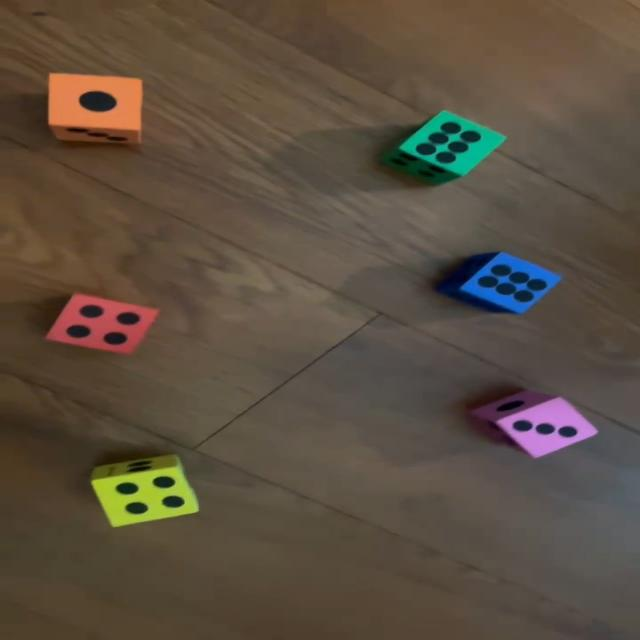blue_block: (439, 253, 565, 315)
red_block: (47, 295, 162, 354)
